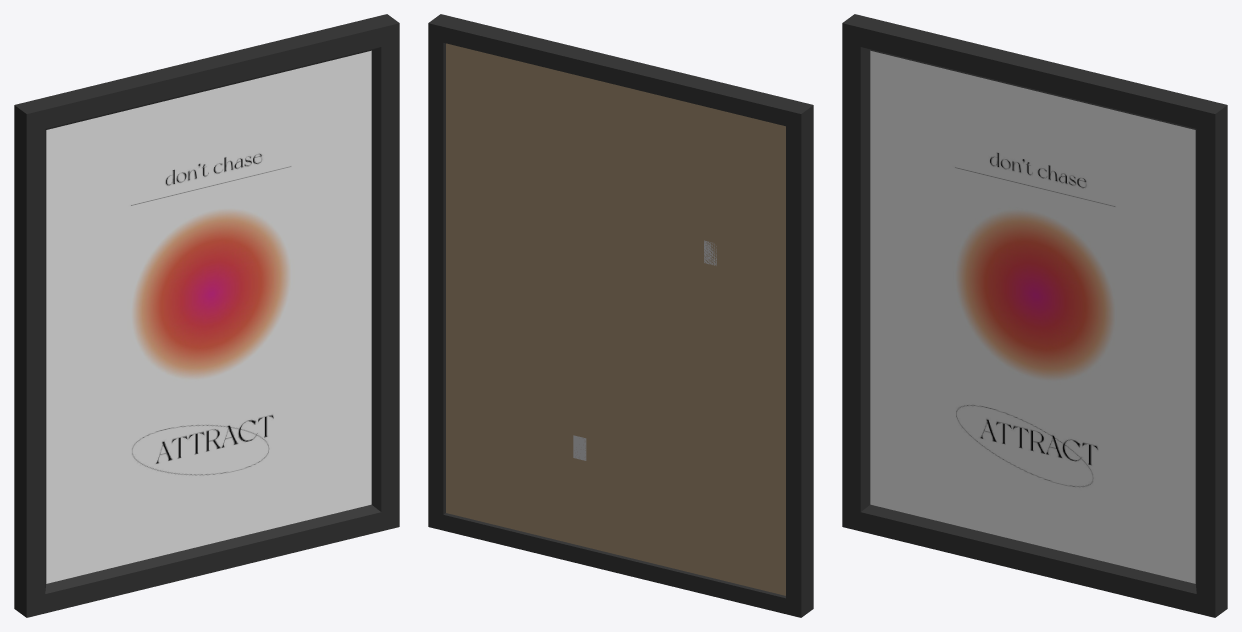
File: dont-chase-30x40.glb
3 renders of one model, left to right at view 1: azimuth 30°, elevation 25°; view 2: azimuth 150°, elevation 25°; view 3: azimuth 330°, elevation 25°, orthographic.
Parts seen in each view (by area): view 1: LAWHA 30x40; view 2: LAWHA 30x40; view 3: LAWHA 30x40.
Boxes of the visible parts, x1=… form: LAWHA 30x40: x1=14, y1=14, x2=399, y2=617; LAWHA 30x40: x1=428, y1=14, x2=813, y2=617; LAWHA 30x40: x1=842, y1=14, x2=1227, y2=617.
Bounding box in the file's own units: 0.344 × 0.444 × 0.02.
4 materials, 1 textured.
